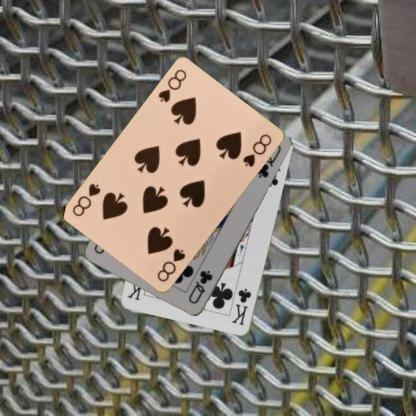8s: (154, 246, 187, 284), (155, 66, 188, 104)
Kc: (229, 286, 252, 326)
Qc: (186, 268, 214, 306)
